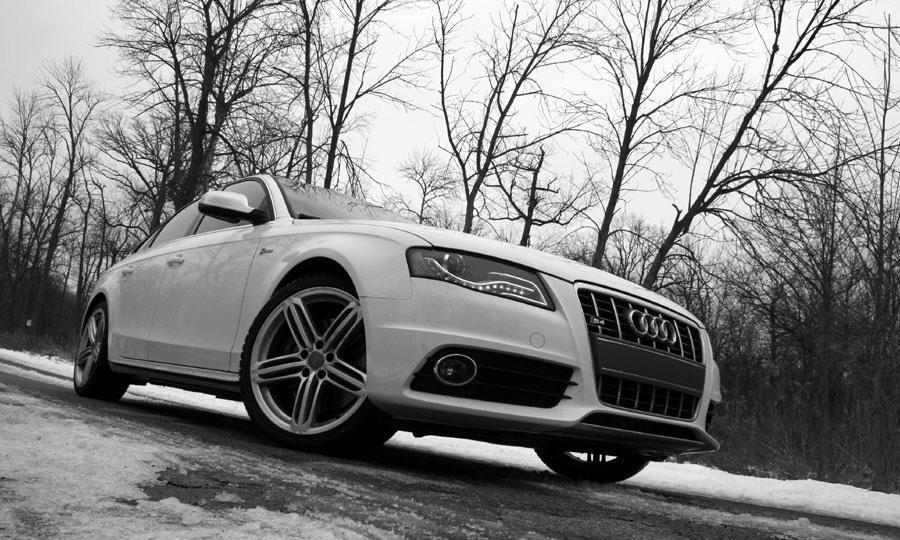car: (73, 172, 723, 488)
